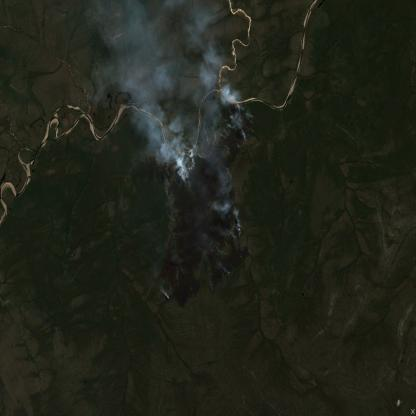fire: (159, 98, 258, 247)
